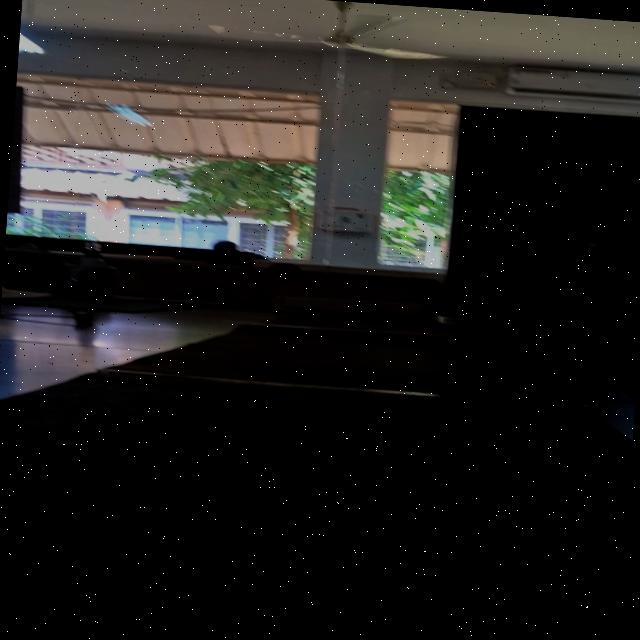Speed40: (264, 260, 304, 286)
